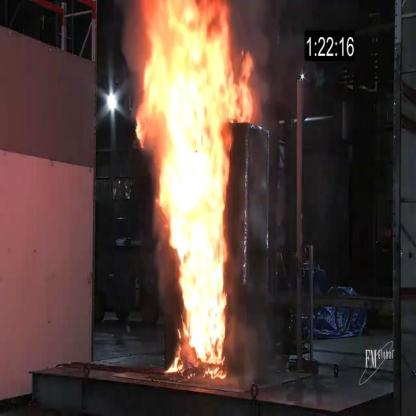fire: (132, 6, 255, 386)
